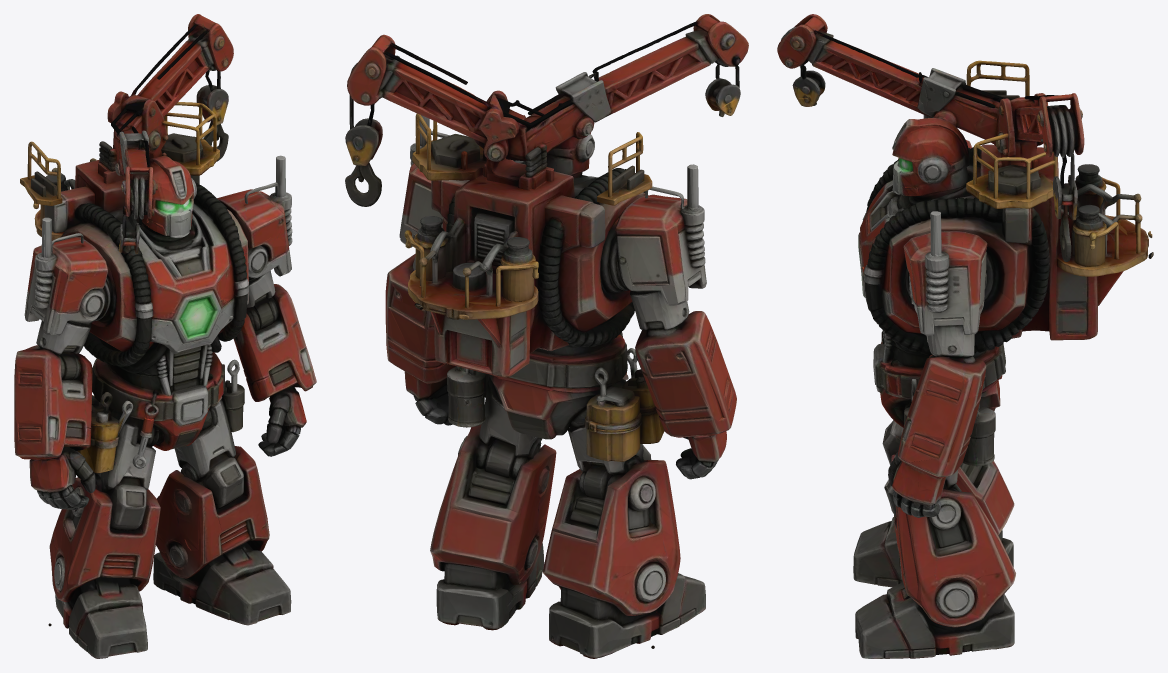
File: river-robot.glb
The picture shows the model from 3 angles, left to right: view 1: azimuth 30°, elevation 25°; view 2: azimuth 150°, elevation 25°; view 3: azimuth 270°, elevation 25°; orthographic projection. The views are drawn at different scales.
Visible parts, largest first — view 1: geometry_0; view 2: geometry_0; view 3: geometry_0.
Boxes of the visible parts, x1=… form: geometry_0: x1=14, y1=14, x2=316, y2=658; geometry_0: x1=345, y1=14, x2=748, y2=658; geometry_0: x1=777, y1=14, x2=1153, y2=658.
Bounding box in the file's own units: 0.5941 × 0.9999 × 0.5983.
Materials: 1 (1 with a texture image).
